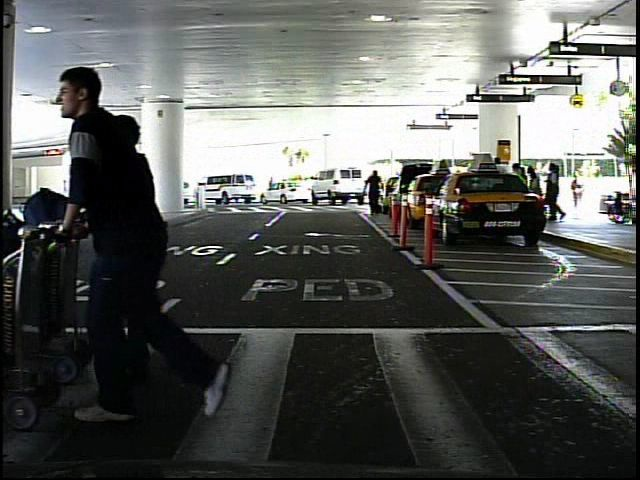person: (63, 49, 242, 428), (364, 167, 387, 223), (571, 171, 590, 217), (110, 172, 128, 210)
